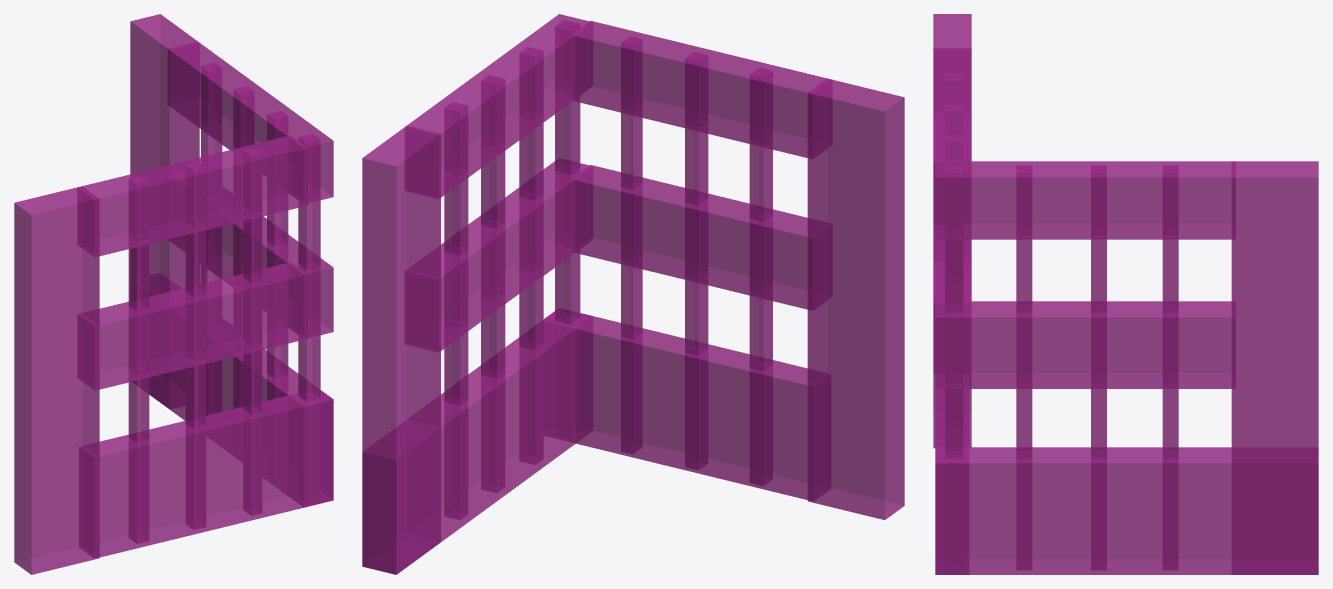
Rendered from SM_Bld_Deco_Wall_Window_06_Corner_01_Collision.fbx.
3 renders of one model, left to right at view 1: azimuth 30°, elevation 25°; view 2: azimuth 150°, elevation 25°; view 3: azimuth 270°, elevation 25°, orthographic. The views are drawn at different scales.
Visible parts, largest first — view 1: SM_Bld_Deco_Wall_Window_06_Corner_01_Collision; view 2: SM_Bld_Deco_Wall_Window_06_Corner_01_Collision; view 3: SM_Bld_Deco_Wall_Window_06_Corner_01_Collision.
Part boxes in pixels (x1,y1,x2,y2): SM_Bld_Deco_Wall_Window_06_Corner_01_Collision: (14, 14, 333, 574); SM_Bld_Deco_Wall_Window_06_Corner_01_Collision: (362, 14, 904, 574); SM_Bld_Deco_Wall_Window_06_Corner_01_Collision: (933, 14, 1318, 574).
Size of the model in its own units: 265 by 301 by 264.
